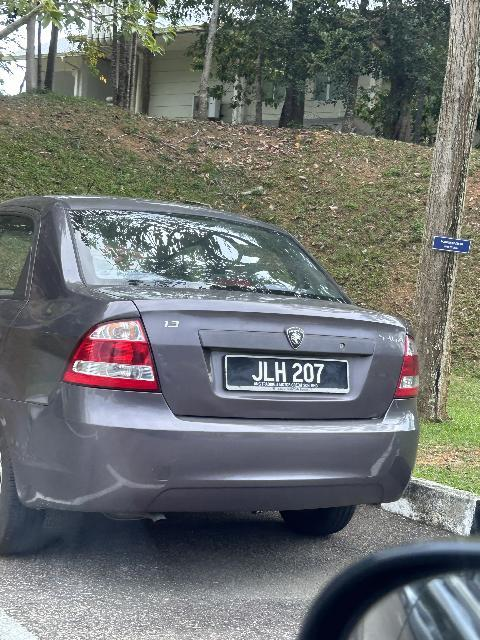JLH207: (224, 350, 353, 399)
License_Plate: (224, 350, 353, 399)
car: (1, 196, 421, 556)
